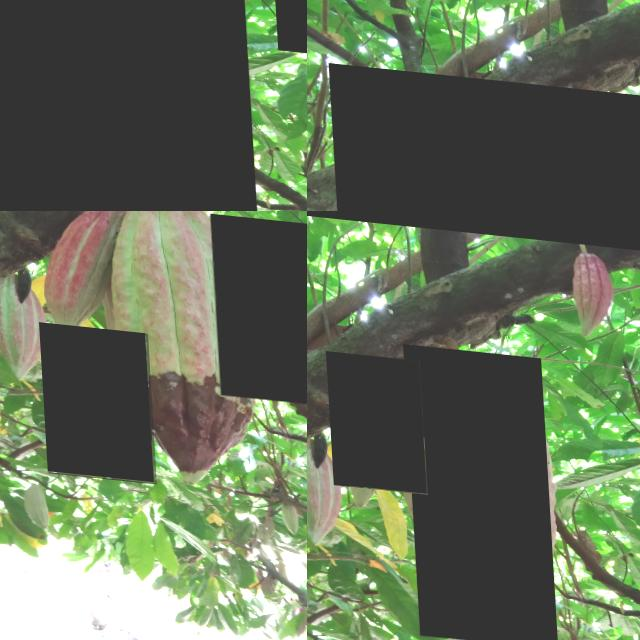Fitoftora: (401, 338, 553, 640), (36, 318, 151, 477)
Monilia: (0, 0, 255, 211), (327, 61, 640, 211)
Sana: (208, 211, 307, 397), (324, 347, 424, 488), (563, 243, 619, 326), (307, 437, 344, 543)
